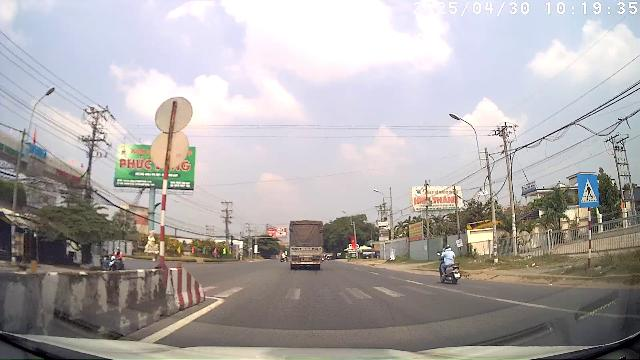423a-duong-nguoi-di-bo-sang-ngang-1: (578, 174, 599, 206)
